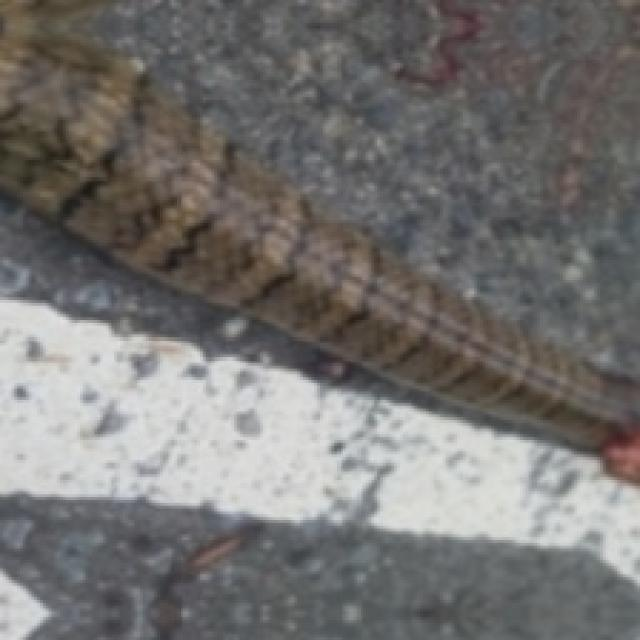king cobra: (0, 0, 637, 480), (137, 3, 637, 363), (0, 460, 637, 637), (0, 197, 434, 406)
